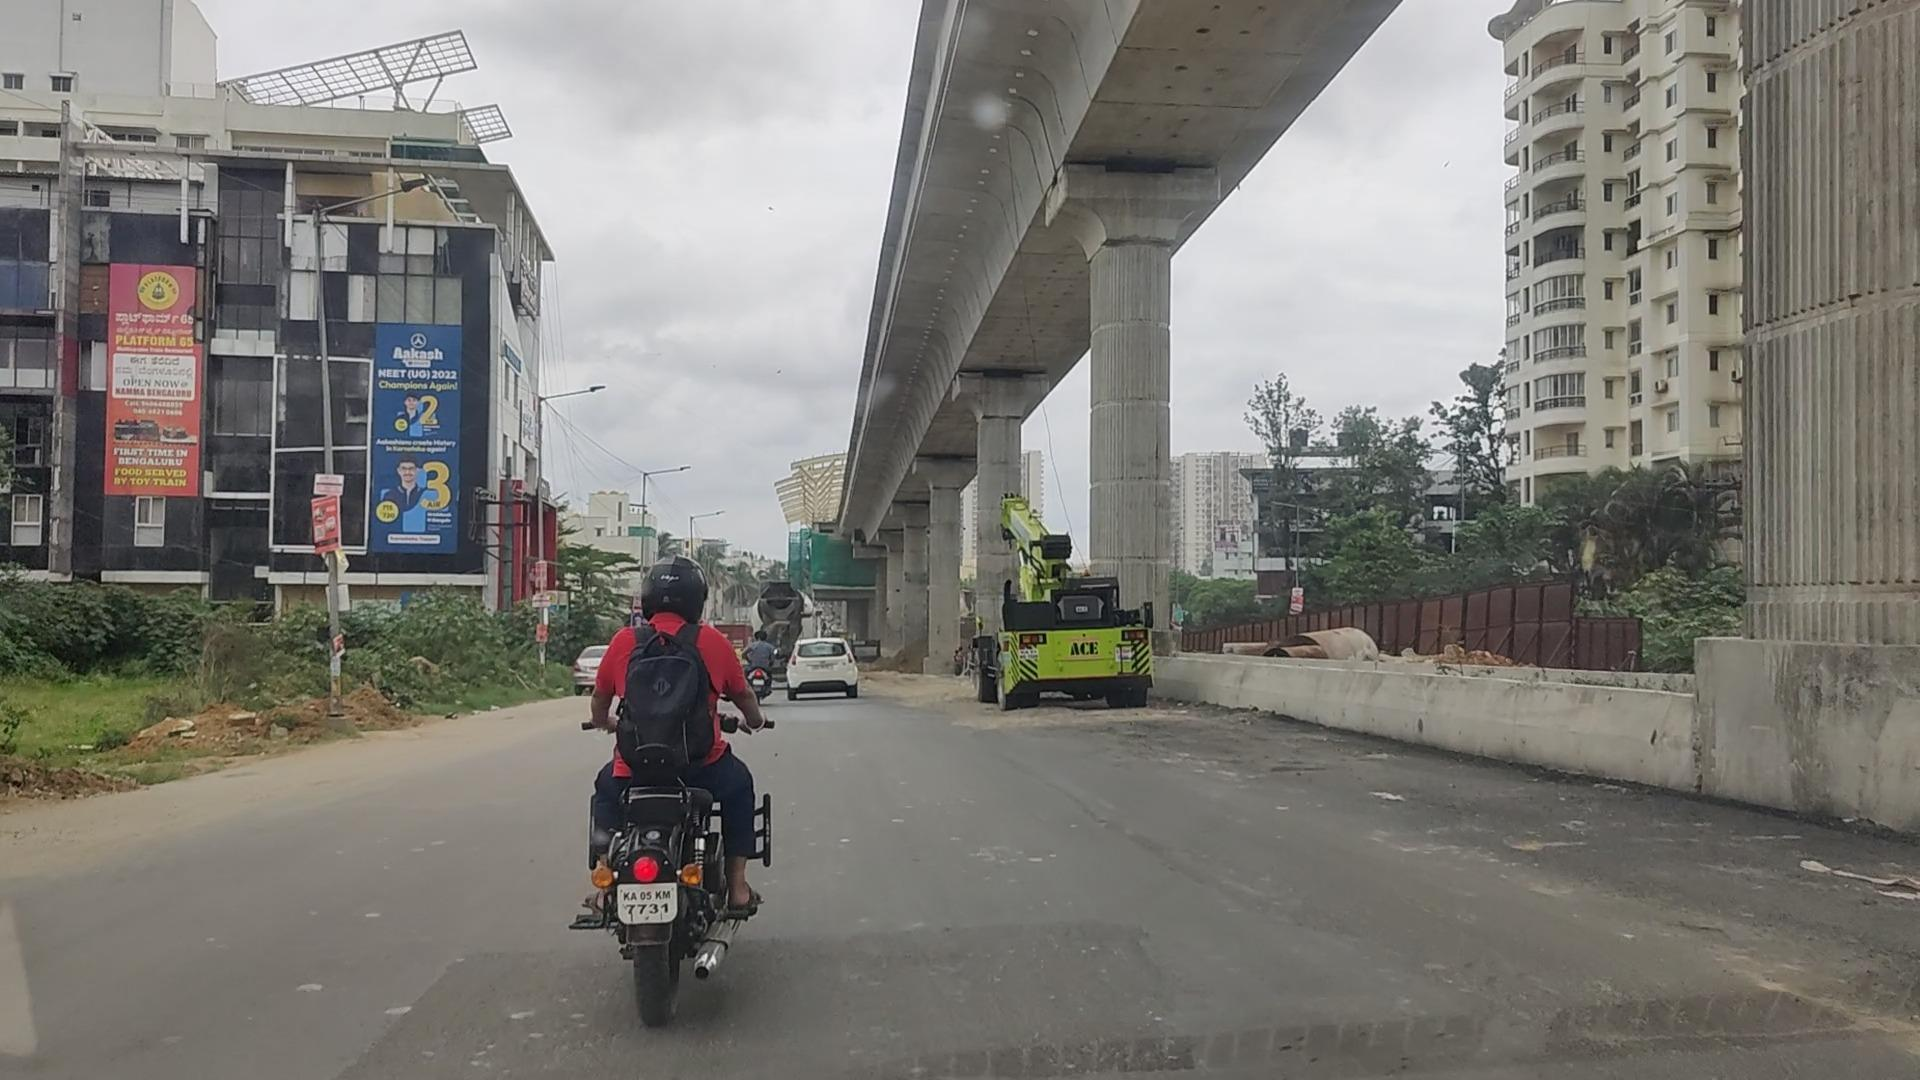HMV: (982, 505, 1150, 698)
LMV: (587, 550, 769, 1033), (790, 632, 861, 695)
RoadDamages: (790, 891, 1199, 1080), (1362, 786, 1619, 918), (345, 936, 566, 1080), (969, 727, 1149, 853)
